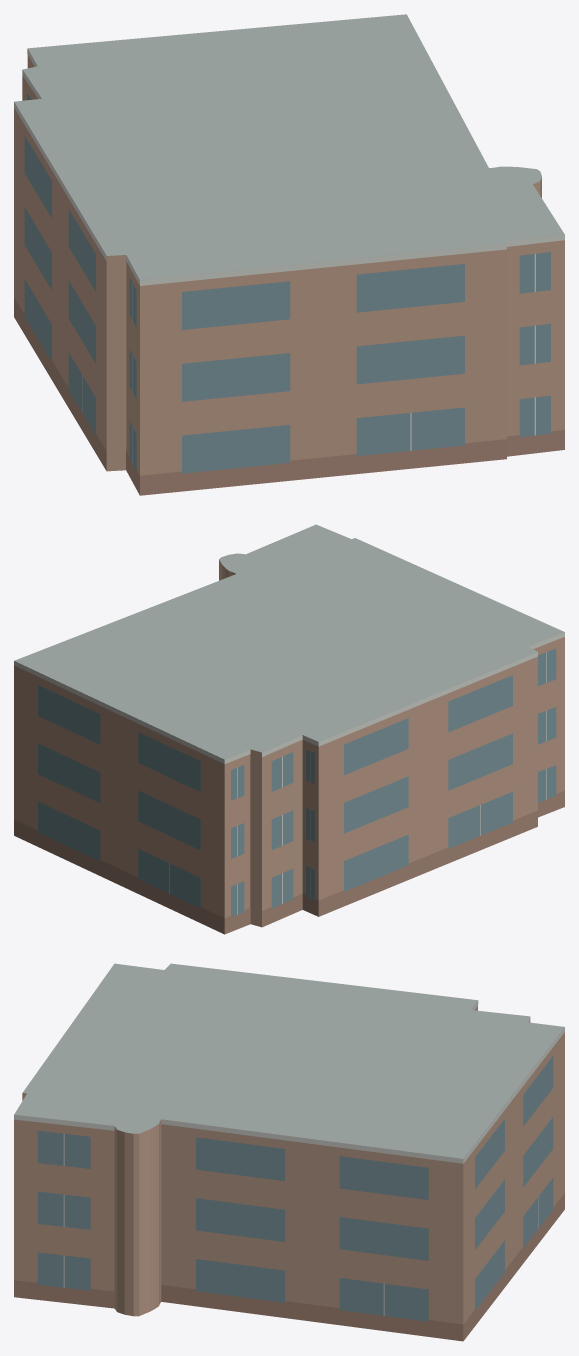
Rendered from survey-upis-33014626.glb.
3 views of the same model, one above another, from view 1: azimuth 30°, elevation 25°; view 2: azimuth 150°, elevation 25°; view 3: azimuth 270°, elevation 25° (orthographic). The views are drawn at different scales.
Visible parts, largest first — view 1: survey-upis-33014626.tmp; view 2: survey-upis-33014626.tmp; view 3: survey-upis-33014626.tmp.
Part boxes in pixels (bbox=[...]): survey-upis-33014626.tmp: bbox=[14, 14, 564, 495]; survey-upis-33014626.tmp: bbox=[14, 524, 564, 934]; survey-upis-33014626.tmp: bbox=[14, 963, 564, 1341].
Bounding box in the file's own units: 21.03 × 9.15 × 25.04.
